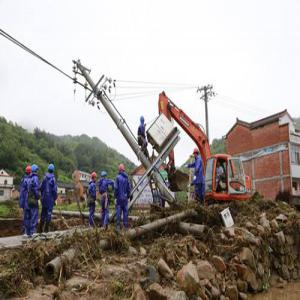blue: (32, 164, 40, 176), (49, 163, 56, 176), (140, 116, 146, 127), (101, 172, 108, 181)
red: (25, 165, 32, 178), (118, 164, 125, 175), (194, 147, 200, 159), (92, 172, 98, 183)
